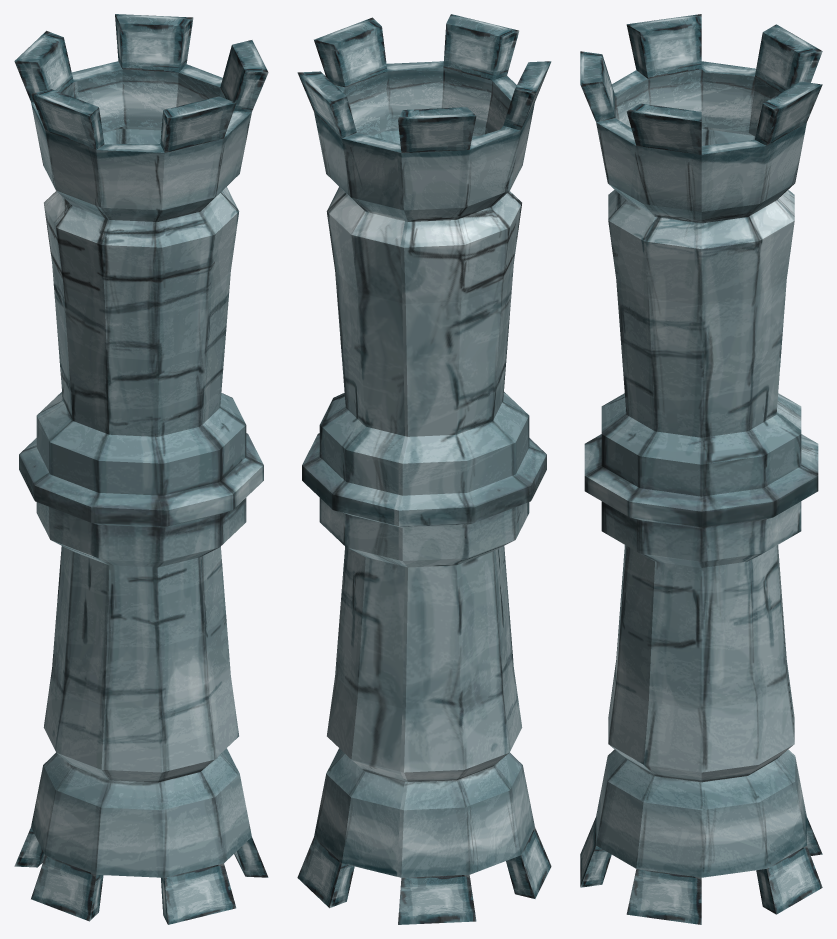
Rendered from Pillar-Mesh.fbx.
The picture shows the model from 3 angles, left to right: view 1: azimuth 30°, elevation 25°; view 2: azimuth 150°, elevation 25°; view 3: azimuth 270°, elevation 25°; orthographic projection.
Visible parts, largest first — view 1: lowpoly_pillar; view 2: lowpoly_pillar; view 3: lowpoly_pillar.
Boxes of the visible parts, x1=… form: lowpoly_pillar: x1=14, y1=14, x2=268, y2=924; lowpoly_pillar: x1=297, y1=14, x2=551, y2=924; lowpoly_pillar: x1=580, y1=14, x2=822, y2=924.
Size of the model in its own units: 524 by 1821 by 498.
